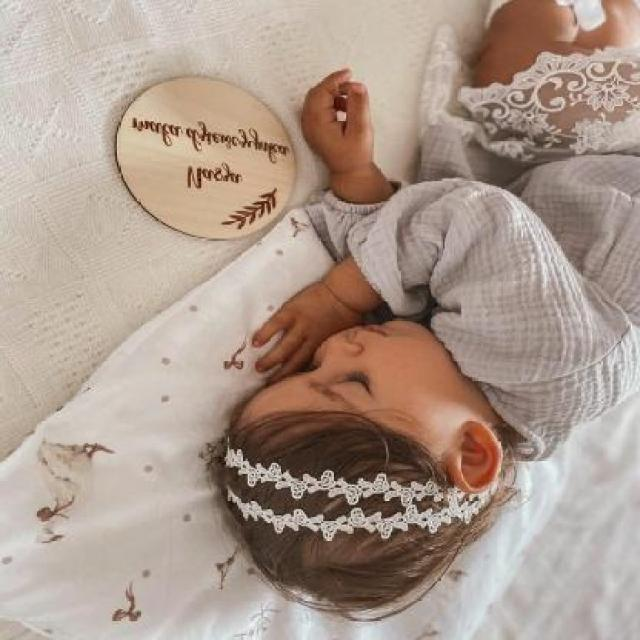child: (216, 2, 639, 613)
